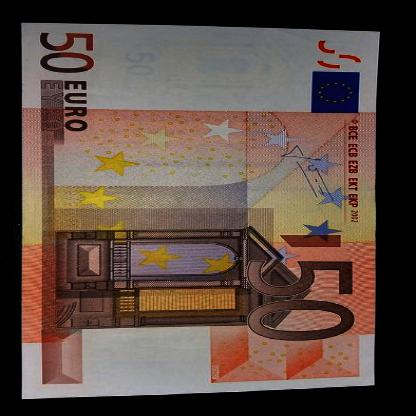euro_banknote: (13, 32, 389, 390)
